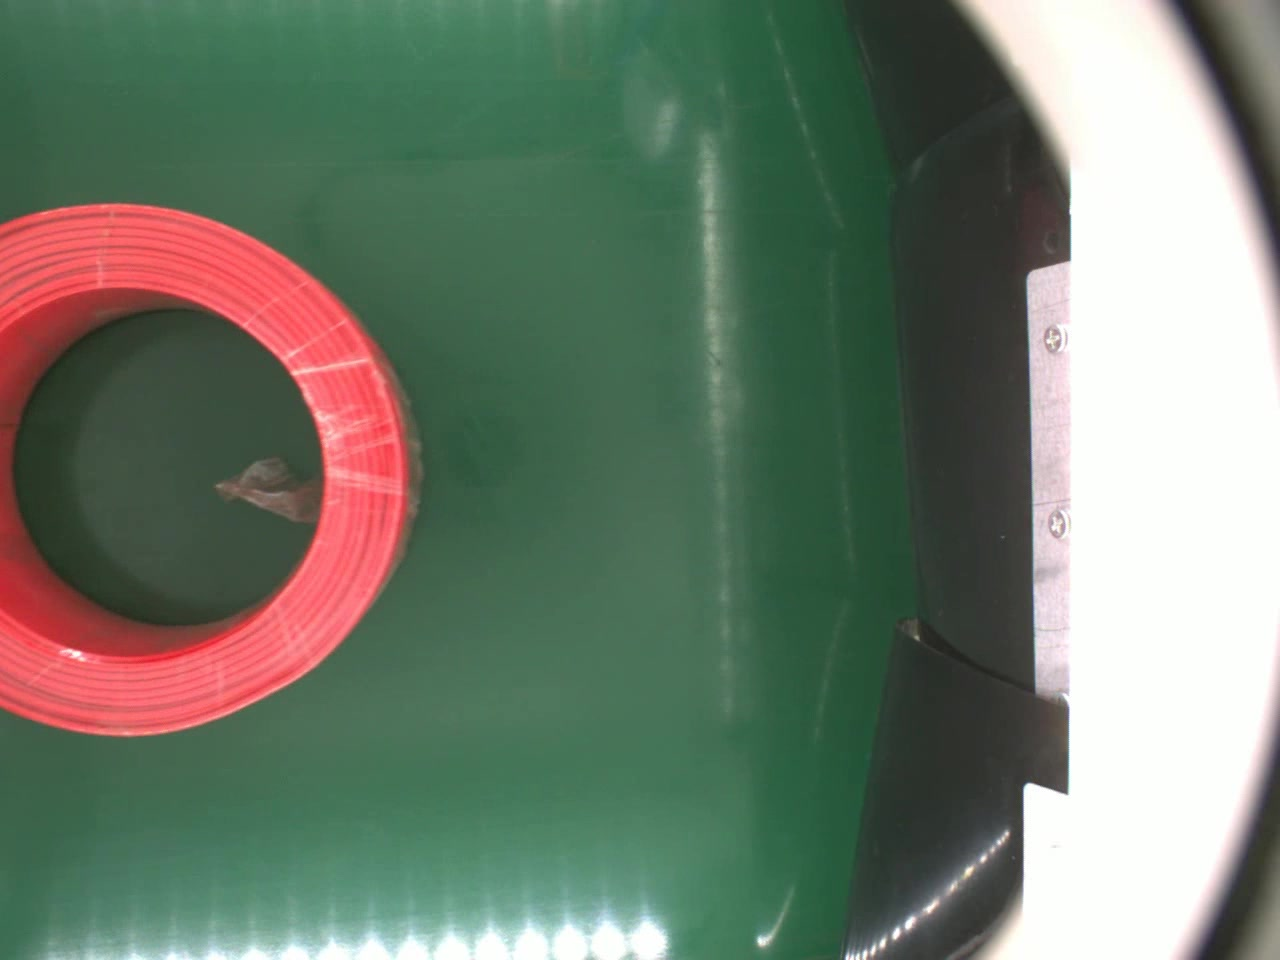red: (0, 197, 428, 744)
